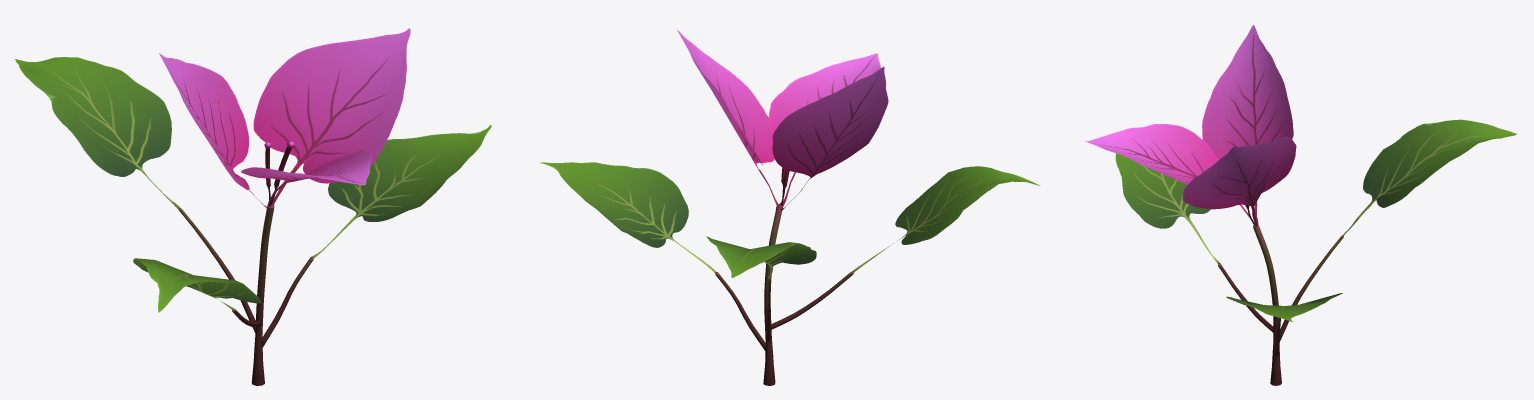
File: bougainvillea.fbx
The picture shows the model from 3 angles, left to right: view 1: azimuth 30°, elevation 25°; view 2: azimuth 150°, elevation 25°; view 3: azimuth 270°, elevation 25°; orthographic projection. The views are drawn at different scales.
Visible parts, largest first — view 1: bougainvillea; view 2: bougainvillea; view 3: bougainvillea.
Part boxes in pixels (left/top/right/bottom): bougainvillea: left=15, top=28, right=491, bottom=385; bougainvillea: left=540, top=30, right=1040, bottom=385; bougainvillea: left=1084, top=25, right=1516, bottom=385.
Bounding box in the file's own units: 14.37 × 11.31 × 14.15.
Materials: 1 (1 with a texture image).
